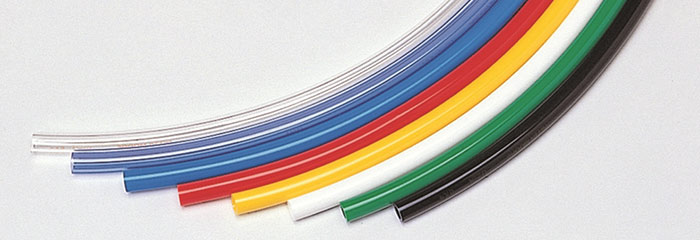Nonrec_Tangler: (17, 20, 657, 221)
